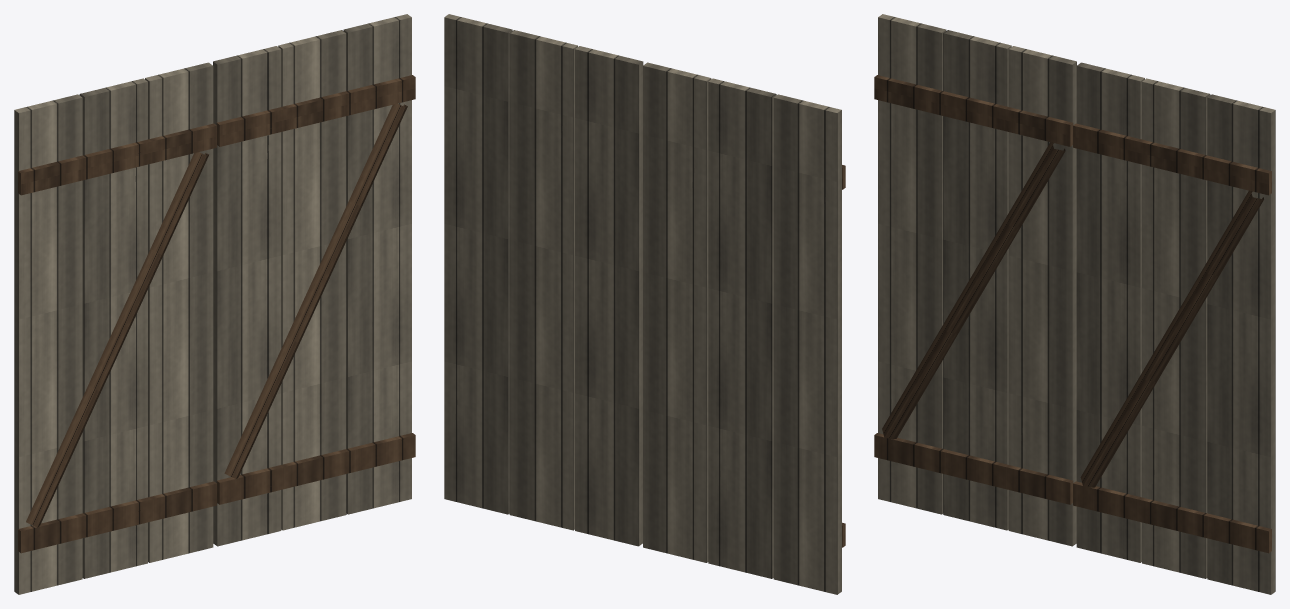
Rendered from Door_Barn_1_LOD1.gltf.
The picture shows the model from 3 angles, left to right: view 1: azimuth 30°, elevation 25°; view 2: azimuth 150°, elevation 25°; view 3: azimuth 330°, elevation 25°; orthographic projection.
Visible parts, largest first — view 1: Door_Barn_1_LOD1; view 2: Door_Barn_1_LOD1; view 3: Door_Barn_1_LOD1.
Part boxes in pixels (x1=…): Door_Barn_1_LOD1: x1=14, y1=14, x2=415, y2=594; Door_Barn_1_LOD1: x1=444, y1=14, x2=845, y2=594; Door_Barn_1_LOD1: x1=874, y1=14, x2=1275, y2=594.
Size of the model in its own units: 3 by 3.5 by 0.14.
2 materials, 2 textured.
